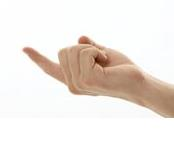up: (21, 34, 145, 100)
